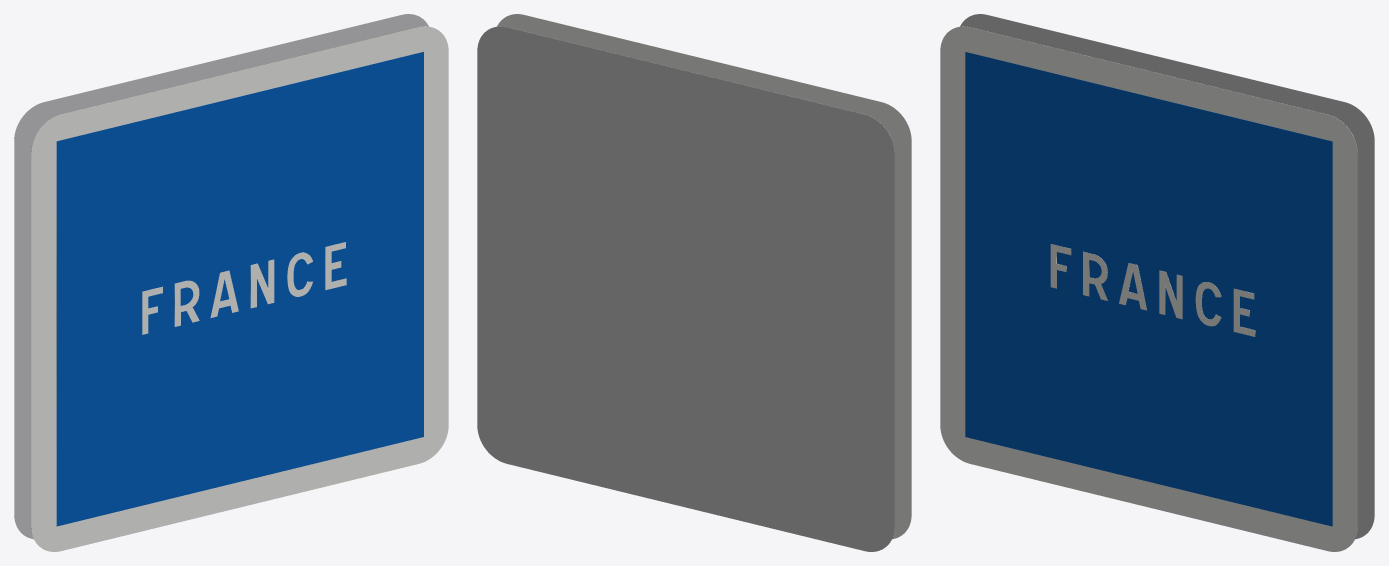
3 renders of one model, left to right at view 1: azimuth 30°, elevation 25°; view 2: azimuth 150°, elevation 25°; view 3: azimuth 330°, elevation 25°, orthographic.
Visible parts, largest first — view 1: E39_p121, E39_p120, E39_dos, E39_p122; view 2: E39_dos, E39_p120; view 3: E39_p121, E39_p120, E39_dos, E39_p122.
Boxes of the visible parts, box(x1,y1,x2,y2) form: E39_p121: box(56, 52, 423, 526); E39_p120: box(31, 26, 448, 551); E39_dos: box(14, 14, 428, 539); E39_p122: box(142, 242, 346, 334); E39_dos: box(477, 26, 894, 551); E39_p120: box(497, 14, 911, 539); E39_p121: box(965, 52, 1332, 526); E39_p120: box(940, 26, 1357, 551); E39_dos: box(960, 14, 1374, 539); E39_p122: box(1050, 244, 1255, 336).
Size of the model in its own units: 0.7 by 0.6999 by 0.0507.
